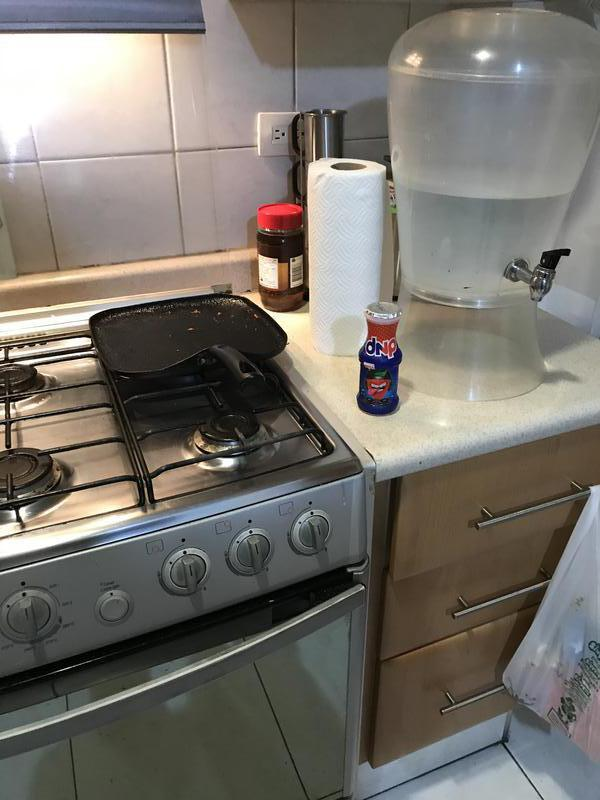danup: (354, 302, 402, 413)
